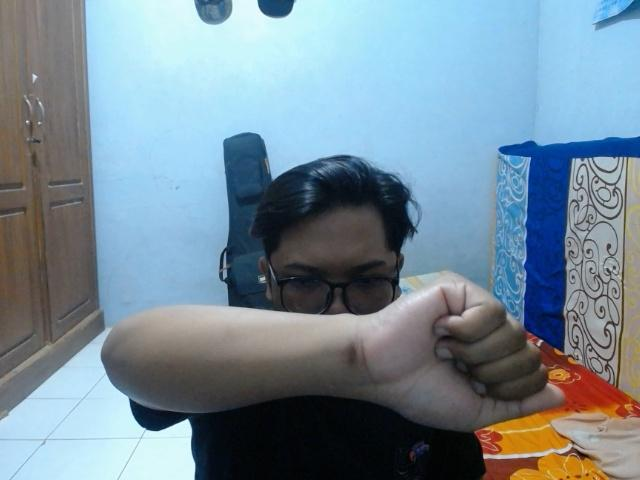Grab: (346, 268, 571, 436)
